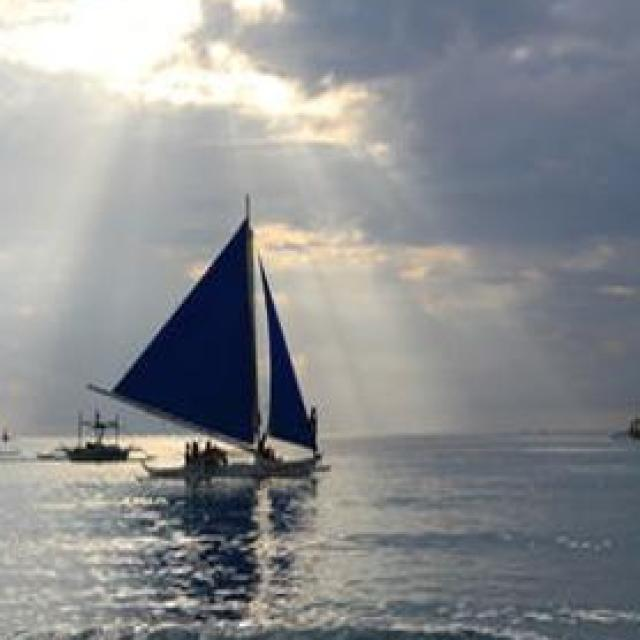sailboat: (114, 191, 333, 485)
